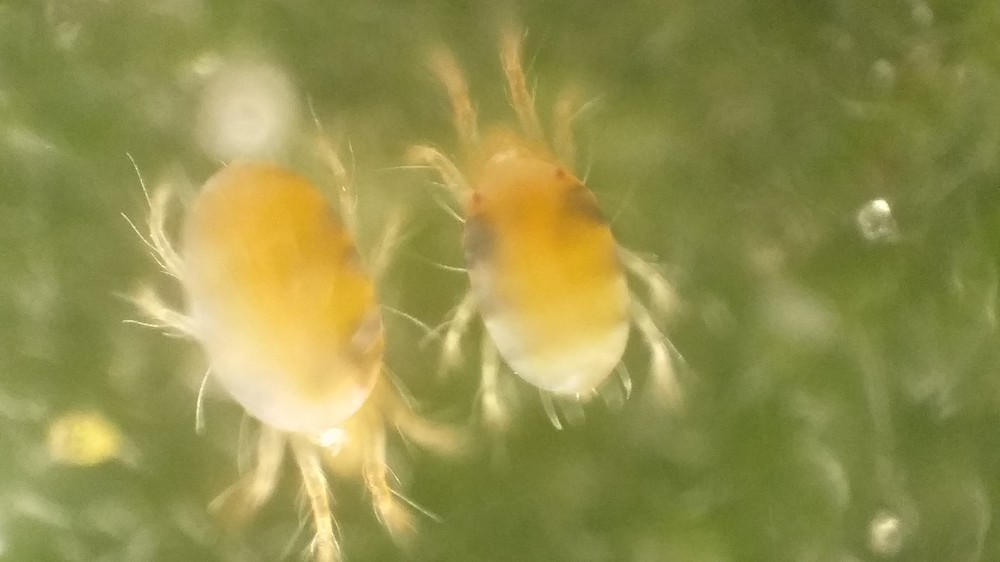Aracnido Rojo: (115, 129, 451, 561), (401, 32, 711, 433)
